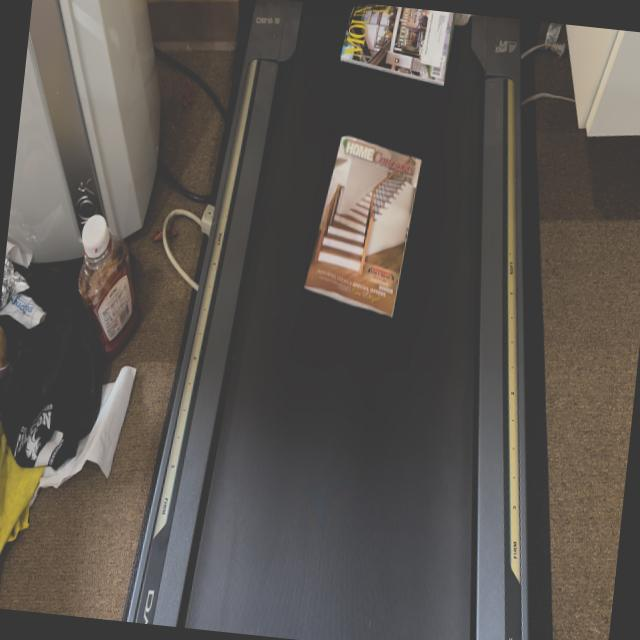Recycle: (304, 122, 448, 338), (336, 0, 472, 74)
